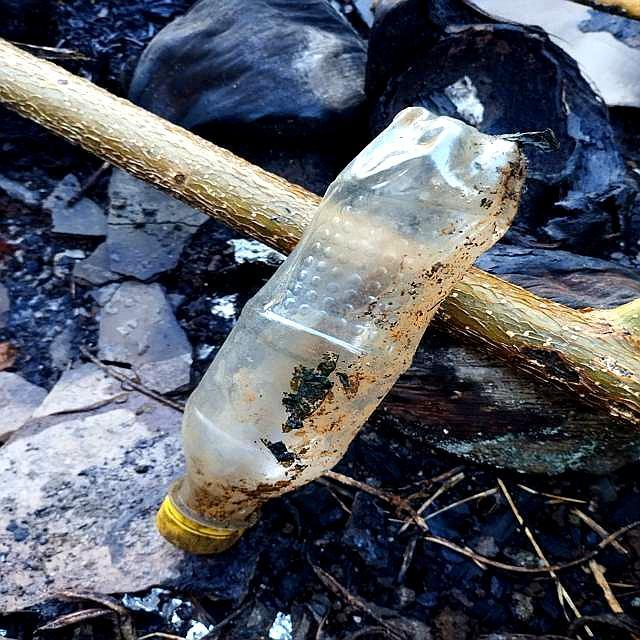Non-biodegradable: (107, 85, 561, 593)
